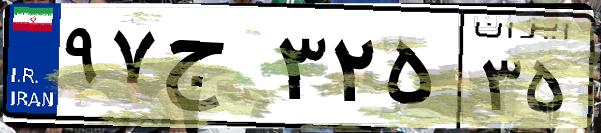2: (330, 28, 385, 110)
3: (270, 28, 330, 110), (475, 38, 525, 113)
5: (385, 28, 445, 110), (525, 38, 570, 115)
7: (110, 28, 158, 98)
9: (57, 26, 110, 100)
ج: (158, 20, 270, 120)
